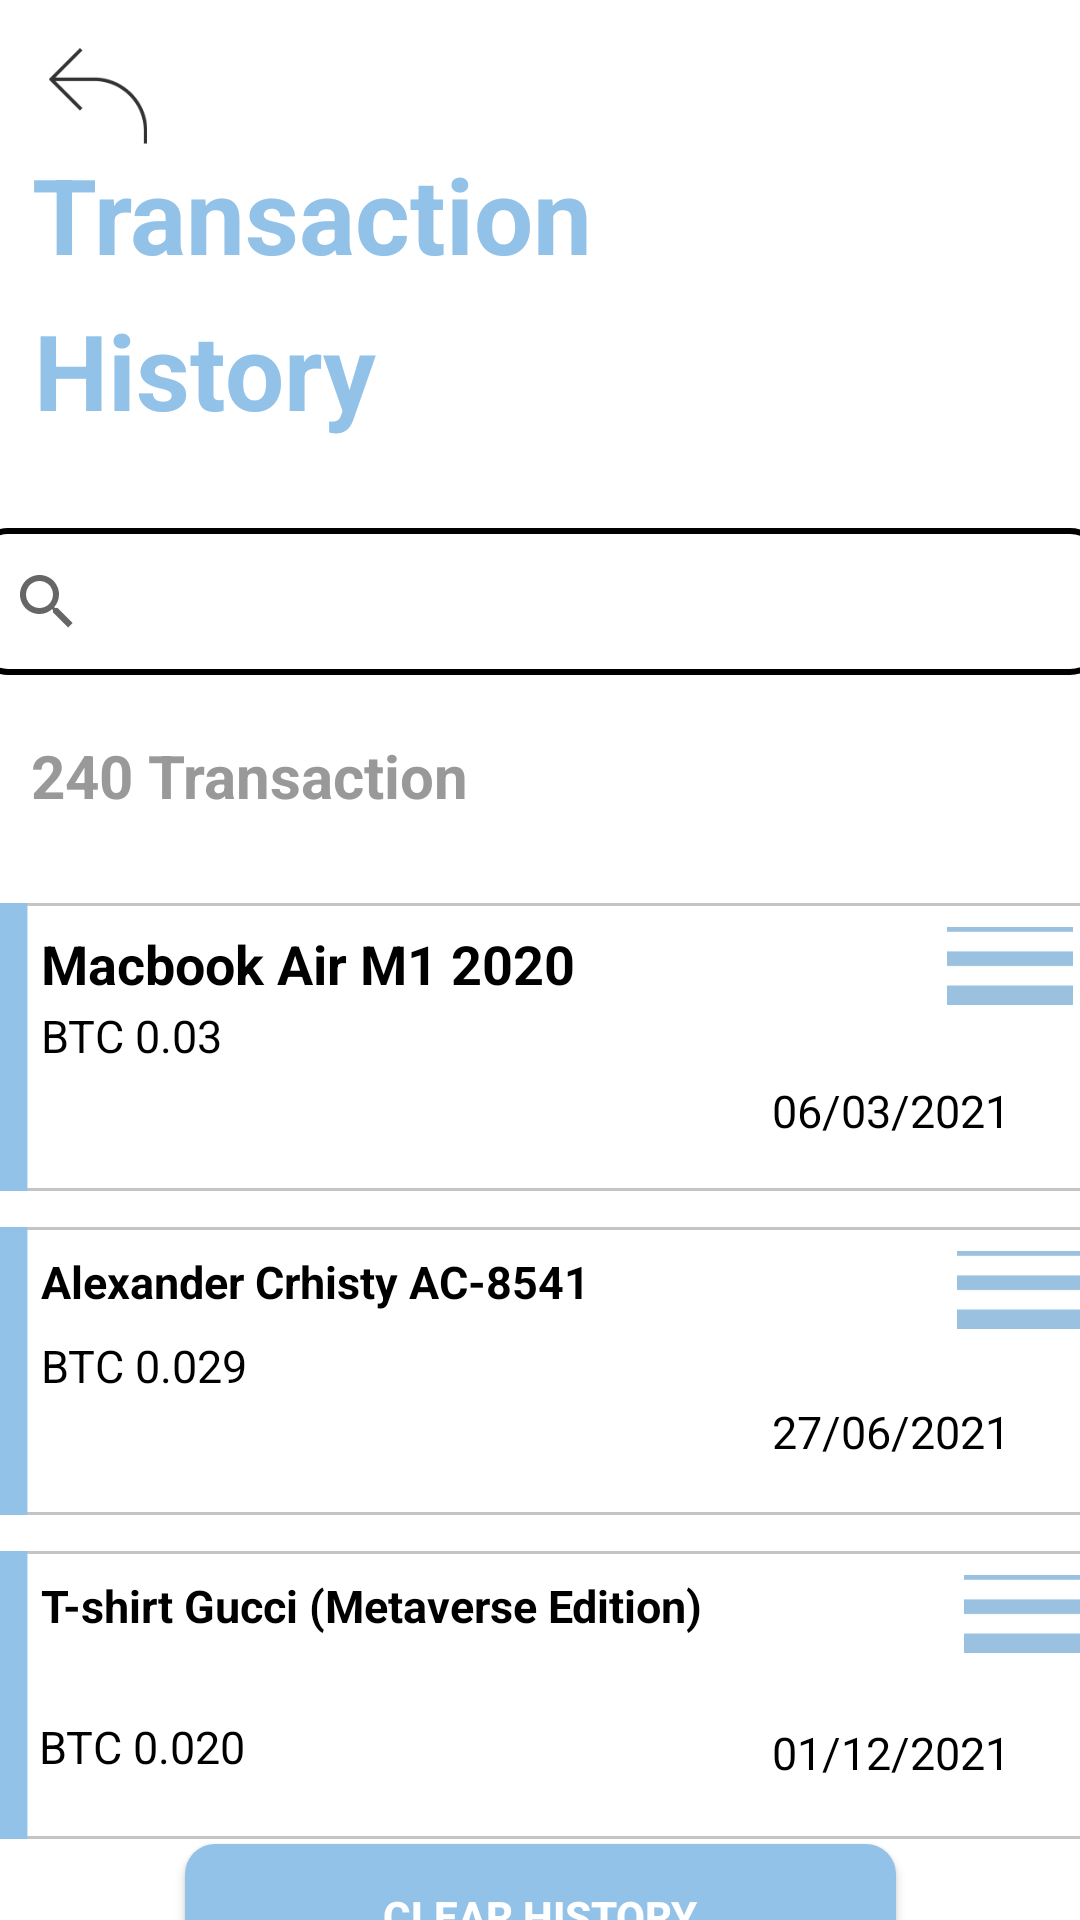

Icon click points for this 1080x1920 phone screenshot, format (x=x, y=y):
icback: (x=98, y=96)
